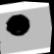correct: (1, 10, 34, 40)
